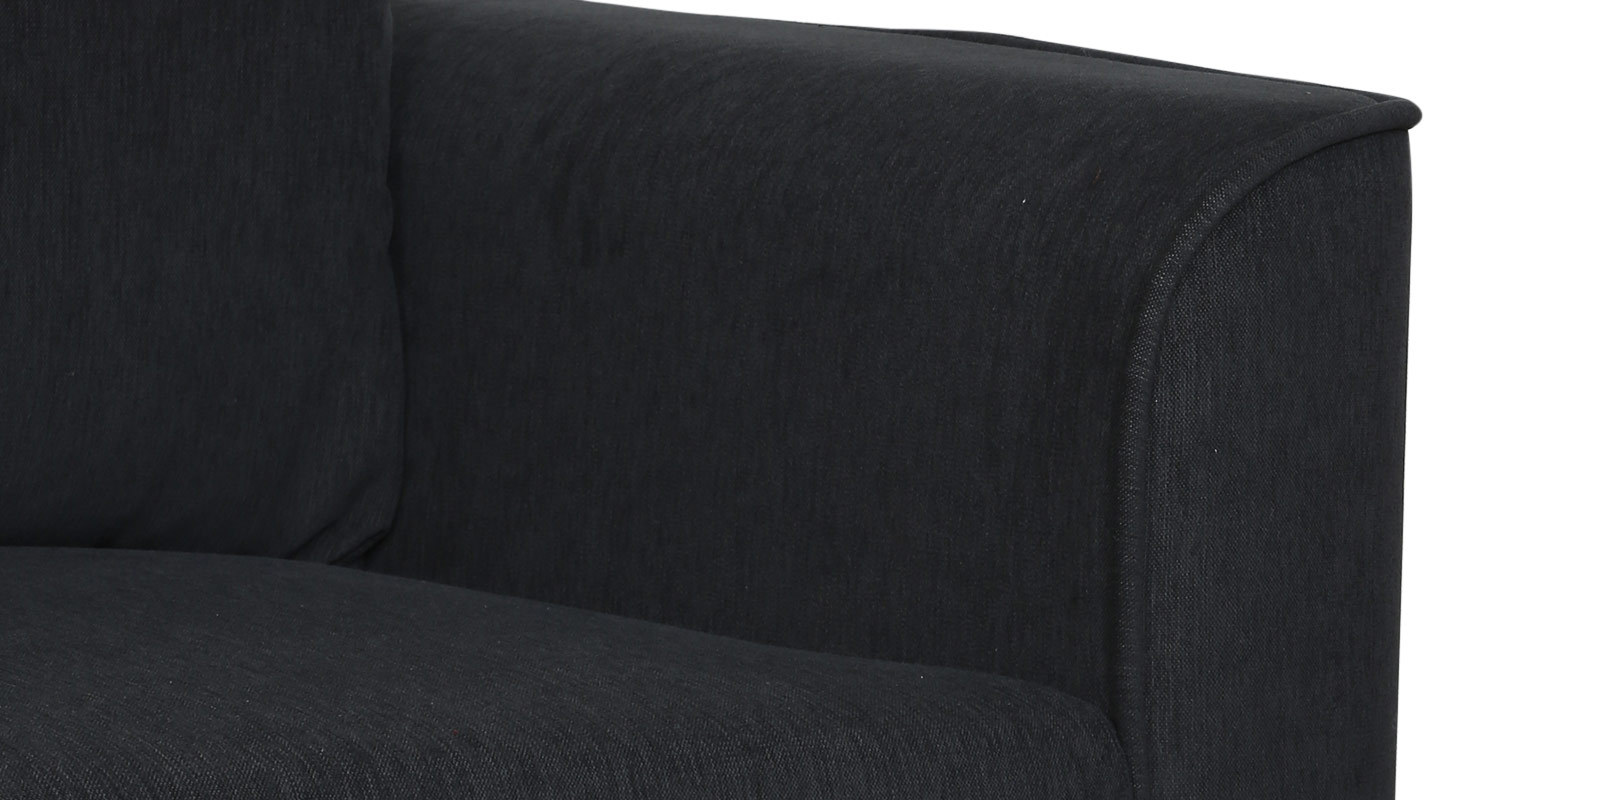Lara Three Seater Sofa in Charcoal Grey Colour by CasaCraft: (1, 2, 1420, 800)
